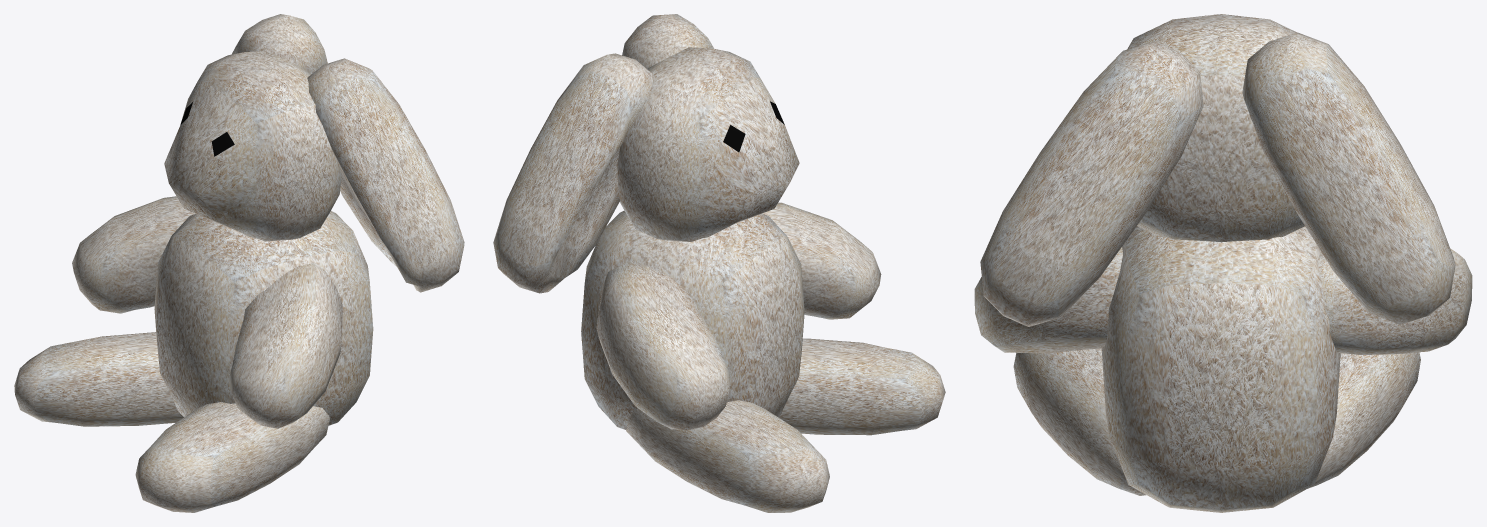
Rendered from rabbit.fbx.
3 views of the same model, side by side, from view 1: azimuth 30°, elevation 25°; view 2: azimuth 150°, elevation 25°; view 3: azimuth 270°, elevation 25° (orthographic). The views are drawn at different scales.
Parts seen in each view (by area): view 1: rab_e1; view 2: rab_e1; view 3: rab_e1.
Boxes of the visible parts, <box> form: rab_e1: <box>14,14,464,512</box>; rab_e1: <box>493,14,945,512</box>; rab_e1: <box>974,14,1472,512</box>.
Size of the model in its own units: 654 by 767 by 706.
